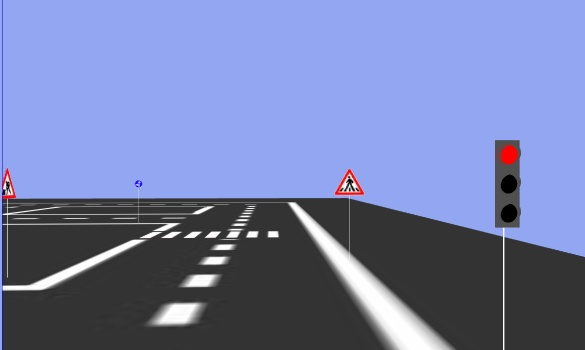trafik_lambasi: (489, 135, 529, 232)
yaya_gecidi: (330, 165, 370, 198)
